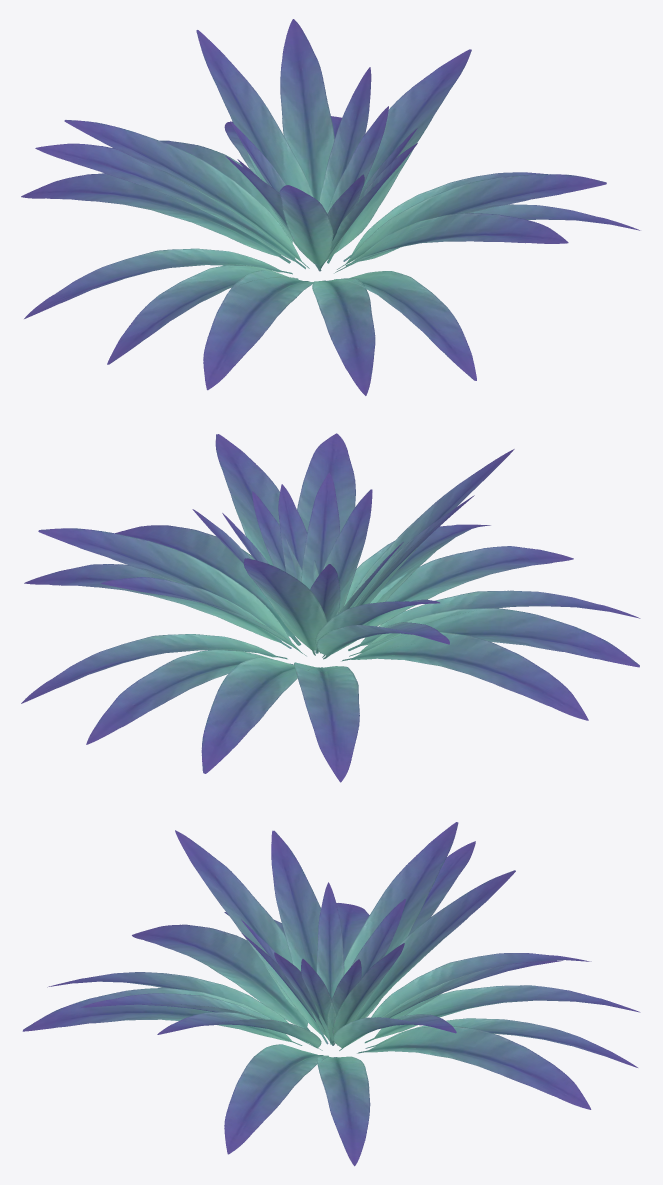
3 views of the same model, one above another, from view 1: azimuth 30°, elevation 25°; view 2: azimuth 150°, elevation 25°; view 3: azimuth 270°, elevation 25° (orthographic). The views are drawn at different scales.
Parts seen in each view (by area): view 1: SM_FH_SwampFern_01_LOD0; view 2: SM_FH_SwampFern_01_LOD0; view 3: SM_FH_SwampFern_01_LOD0.
Part boxes in pixels (x1,y1,x2,y2): SM_FH_SwampFern_01_LOD0: (21,19,640,395); SM_FH_SwampFern_01_LOD0: (21,433,640,782); SM_FH_SwampFern_01_LOD0: (22,822,640,1166).
Bounding box in the file's own units: 1.35 × 0.4153 × 1.36.
Materials: 1 (1 with a texture image).
